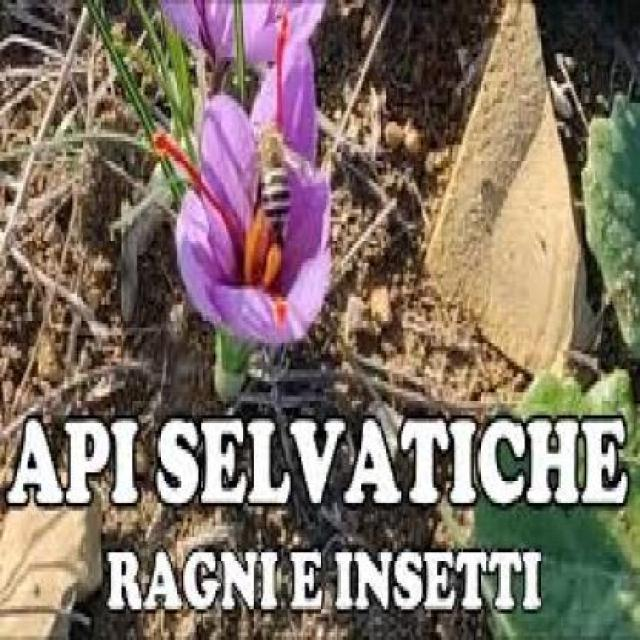Flower: (175, 43, 332, 346)
stigma: (154, 134, 236, 243), (272, 16, 293, 130)
